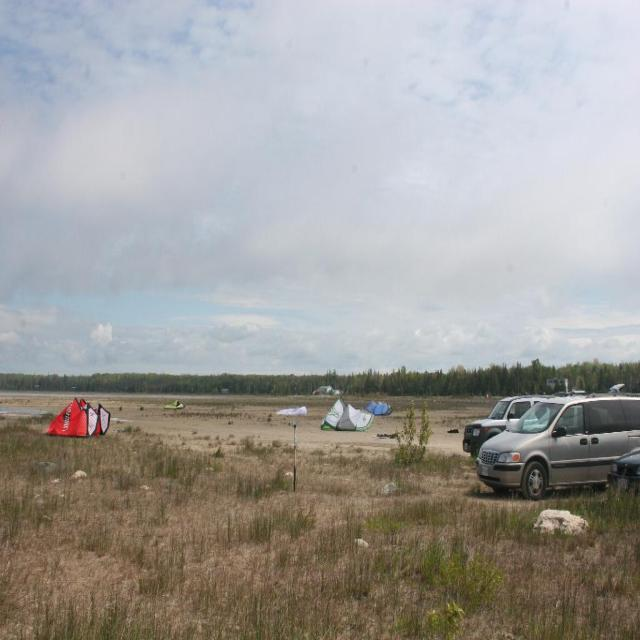car: (475, 396, 632, 504)
